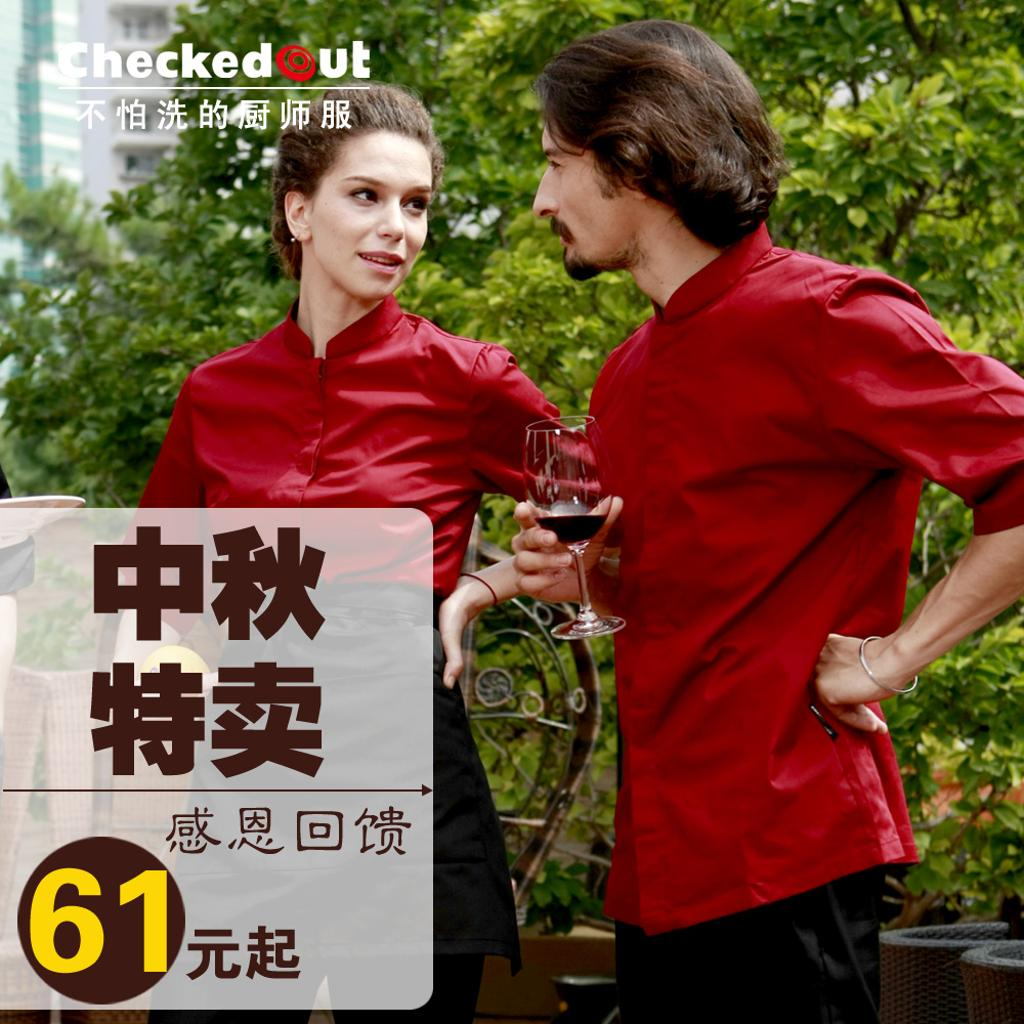face: (312, 126, 442, 302), (530, 92, 632, 280)
